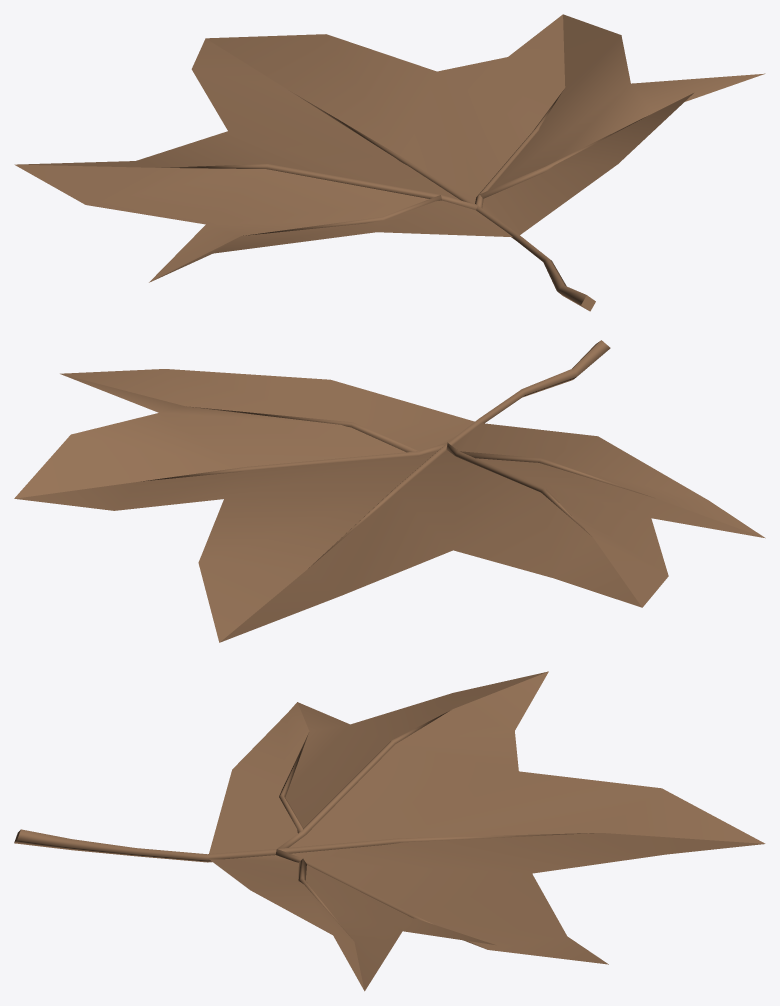
Rendered from dead_leaf_02.glb.
The picture shows the model from 3 angles, top to bottom: view 1: azimuth 30°, elevation 25°; view 2: azimuth 150°, elevation 25°; view 3: azimuth 270°, elevation 25°; orthographic projection. The views are drawn at different scales.
Parts seen in each view (by area): view 1: dead_leaf_02; view 2: dead_leaf_02; view 3: dead_leaf_02.
Boxes of the visible parts, x1,y1,x2,y2 form: dead_leaf_02: [14, 14, 765, 311]; dead_leaf_02: [14, 340, 765, 642]; dead_leaf_02: [14, 671, 765, 991].
Size of the model in its own units: 0.2181 by 0.015 by 0.2176.
